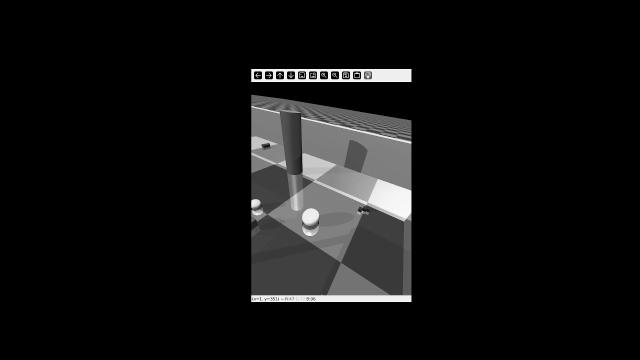cilindro: (278, 106, 308, 175), (259, 142, 273, 150)
cuadrado: (247, 215, 263, 228), (355, 205, 362, 214), (364, 206, 373, 213)
esfera: (298, 205, 320, 224), (248, 195, 266, 210)
